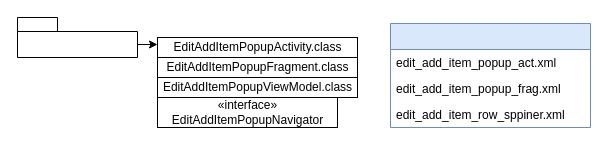
Some shapes in this 608 by 148 pixel diagram are drawn without their labels. Each missing label, with the box of its shape:
popup: (16, 16, 138, 58)
View: (390, 22, 590, 128)
